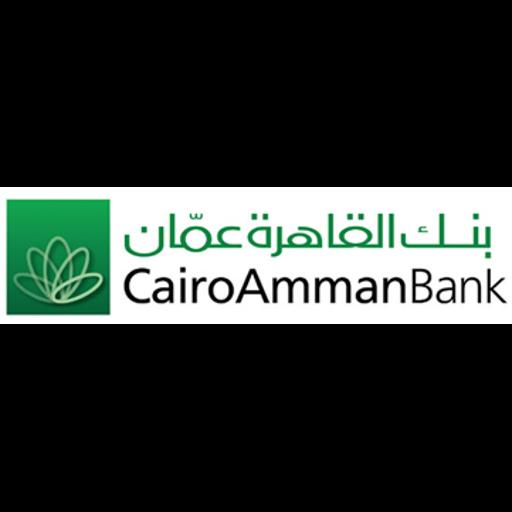Cairo Amman Bank: (0, 187, 512, 324)
